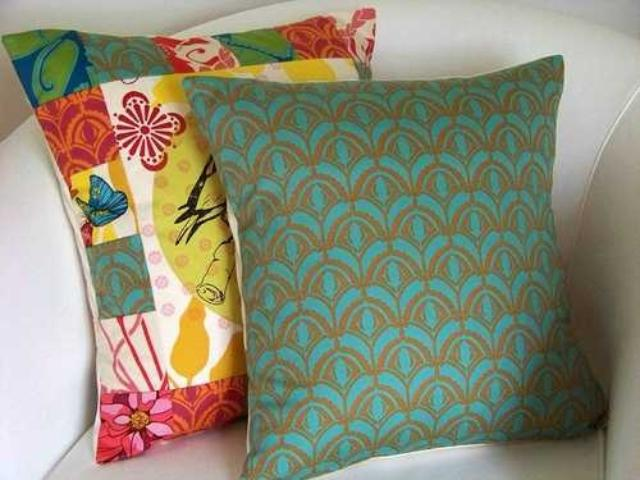pillow: (180, 53, 608, 479), (0, 4, 376, 464)
